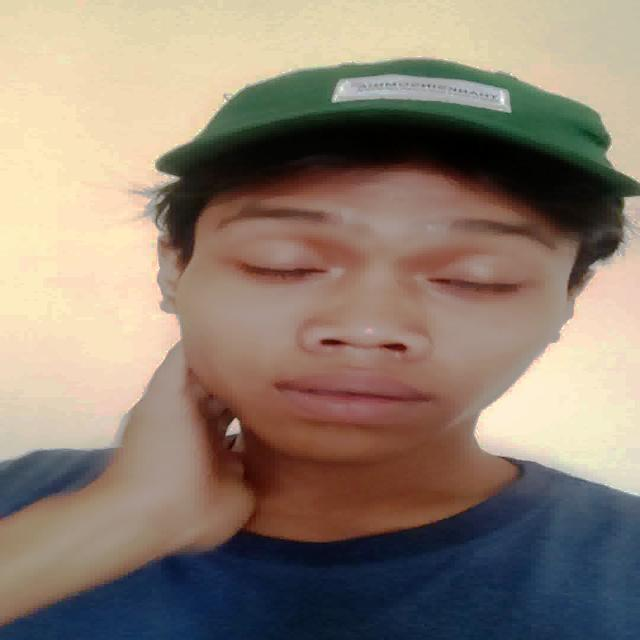TOPI: (138, 48, 640, 203)
